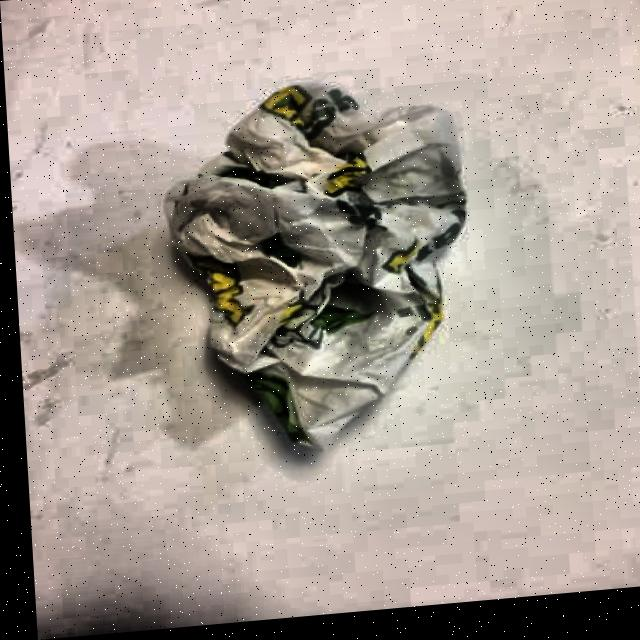trash: (153, 64, 494, 462)
